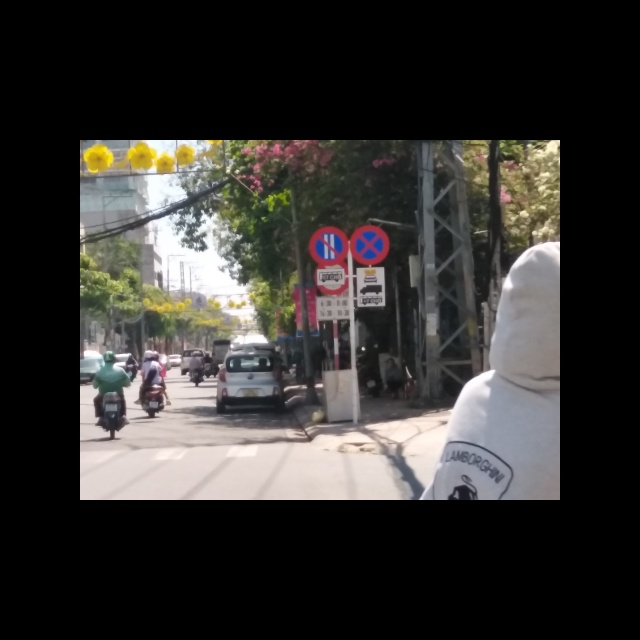Cấm dừng xe và đỗ xe: (350, 225, 390, 266)
Cấm đỗ xe ngày chẵn: (307, 226, 349, 266)
